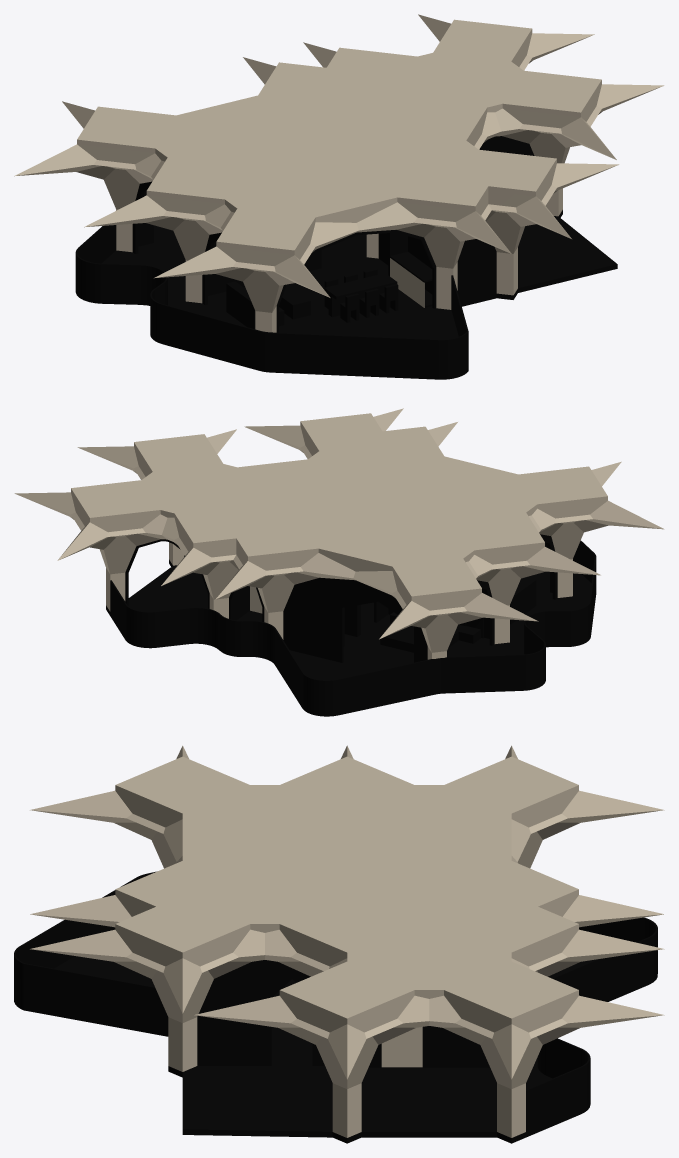
3 views of the same model, one above another, from view 1: azimuth 30°, elevation 25°; view 2: azimuth 150°, elevation 25°; view 3: azimuth 270°, elevation 25° (orthographic). The views are drawn at different scales.
Visible parts, largest first — view 1: santech, object 1, object 5, object 4, object 3, object 71, object 56, object 43, object 6, object 57, object 37, object 9 (+2 smaller); view 2: santech, object 1, object 5, object 40, object 4, object 25, object 23, object 39, object 59; view 3: santech, object 1, object 5, object 3, object 70, object 4, object 23, object 24.
Part boxes in pixels (box(x1,y1,x2,y2)): santech: box(14, 14, 664, 332); object 1: box(75, 225, 468, 374); object 5: box(135, 210, 562, 334); object 4: box(75, 225, 468, 379); object 3: box(518, 216, 617, 292); object 71: box(457, 239, 496, 302); object 56: box(324, 273, 397, 316); object 43: box(276, 230, 436, 332); object 6: box(378, 233, 432, 294); object 57: box(279, 285, 310, 319); object 37: box(208, 242, 321, 295); object 9: box(479, 136, 534, 155); santech: box(14, 408, 664, 659); object 1: box(110, 540, 596, 712); object 5: box(106, 559, 554, 670); object 40: box(283, 577, 427, 662); object 4: box(110, 543, 596, 716); object 25: box(380, 624, 465, 652); object 23: box(231, 586, 249, 620); object 39: box(344, 604, 360, 636); object 59: box(510, 578, 536, 608); santech: box(30, 745, 664, 1137); object 1: box(14, 871, 657, 1131); object 5: box(168, 979, 525, 1143); object 3: box(182, 1066, 332, 1137); object 70: box(197, 960, 324, 1065); object 4: box(14, 956, 657, 1137); object 23: box(368, 1026, 489, 1067); object 24: box(381, 1027, 422, 1067).
Bounding box in the file's own units: 19.26 × 3.96 × 15.84.
